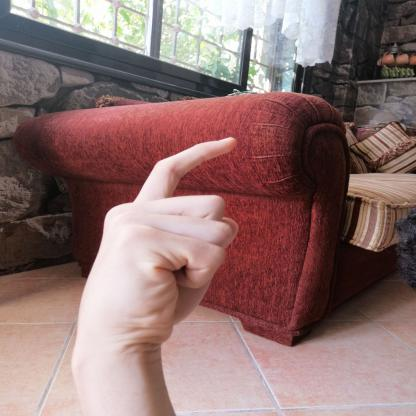RAA: (62, 126, 249, 360)
